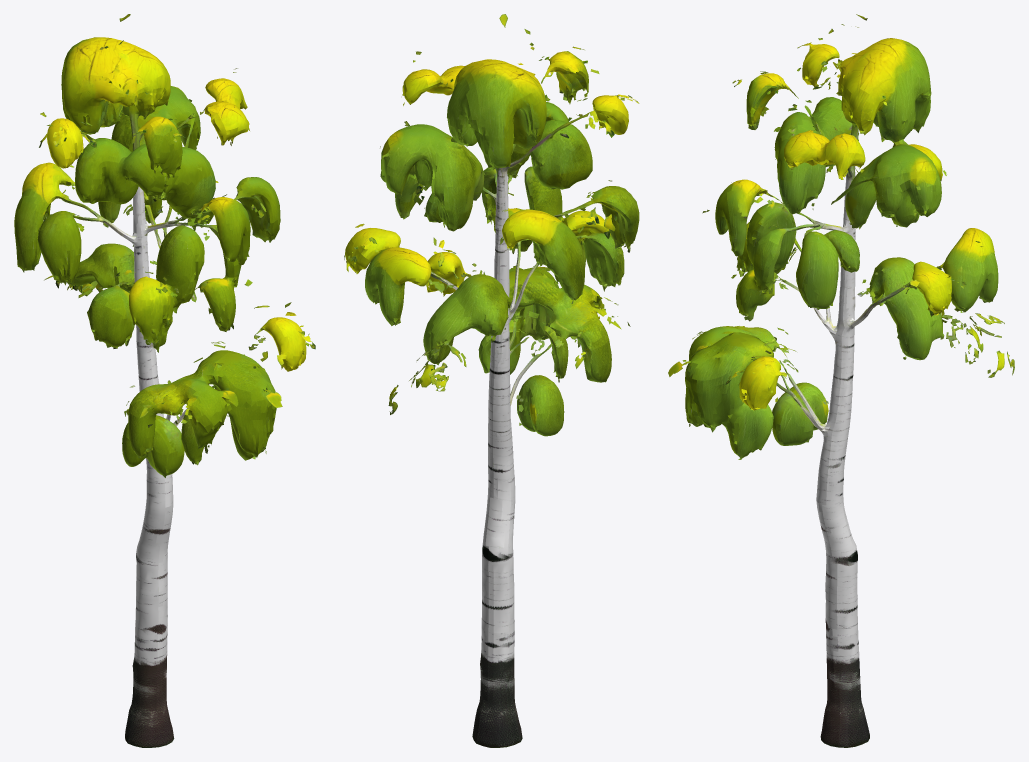
Rendered from veg_tree_birch_01.glb.
The picture shows the model from 3 angles, left to right: view 1: azimuth 30°, elevation 25°; view 2: azimuth 150°, elevation 25°; view 3: azimuth 270°, elevation 25°; orthographic projection.
Parts seen in each view (by area): view 1: veg_tree_birch_01; view 2: veg_tree_birch_01; view 3: veg_tree_birch_01.
Boxes of the visible parts, left/top/right/bottom form: veg_tree_birch_01: left=14, top=14, right=315, bottom=747; veg_tree_birch_01: left=344, top=14, right=639, bottom=747; veg_tree_birch_01: left=668, top=14, right=1014, bottom=747.
Size of the model in its own units: 7.19 by 20.52 by 9.
1 material, 1 textured.
